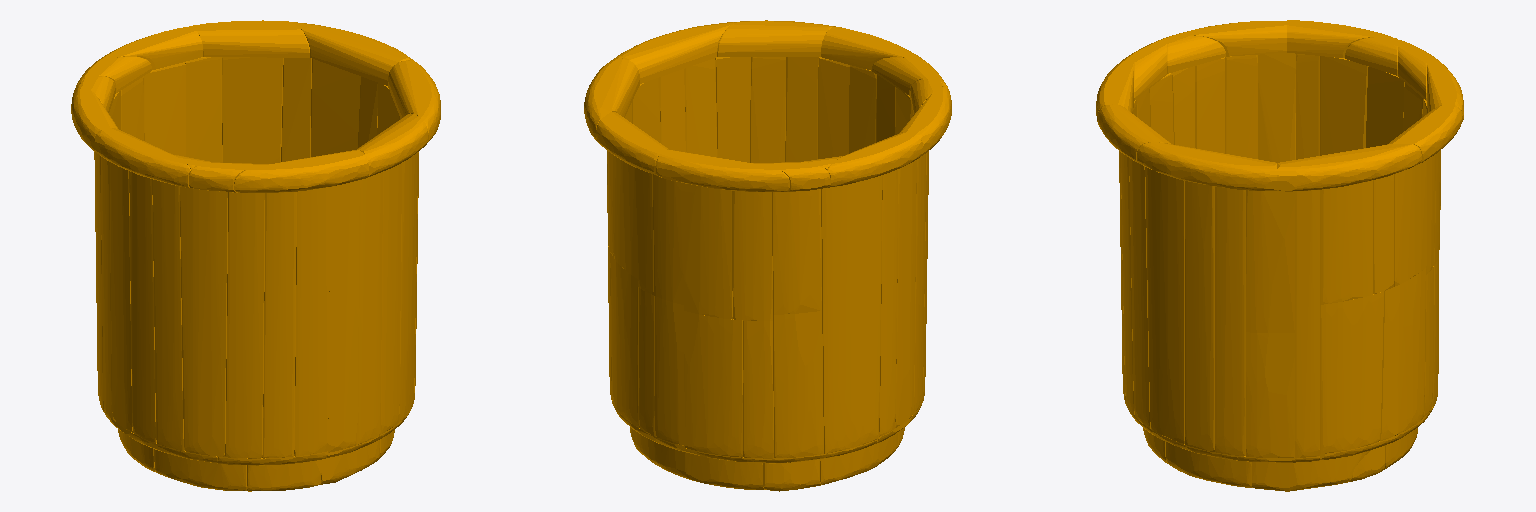
URDF robot description (065-c_cups):
<?xml version="1.0" encoding="UTF-8"?>
<robot name="065-c_cups">
	<link name="base">
		<collision>
			<geometry>
				<mesh filename="..\vhacd\065-c_cups_vhacd.obj" scale="1.0 1.0 1.0"/>
			</geometry>
			<origin xyz="0 0 0"/>
			<contact_coefficients mu="0.24" />
		</collision>
		<visual>
			<geometry>
				<mesh filename="..\vhacd\065-c_cups_vhacd.obj" scale="1.0 1.0 1.0"/>
			</geometry>
			<origin xyz="0 0 0"/>
		</visual>
		<inertial>
			<mass value="0"/>
			<inertia ixx="0.0" ixy="-0.0" ixz="0.0" iyy="0.0" iyz="0.0" izz="0.0" />
			<origin xyz="-0.014474974727387646 -0.06461685581612296 0.03116215631428454"/>
		</inertial>
	</link>
</robot>

--- Facts derived from the render (not from the file) ---
3 views of the same robot in one strip: view 1: azimuth 30°, elevation 25°; view 2: azimuth 150°, elevation 25°; view 3: azimuth 270°, elevation 25° (orthographic).
Robot: 065-c_cups — 1 links, 0 joints (none); root link base; default pose: all joints at 0.
Links seen in each view (by area): view 1: base; view 2: base; view 3: base.
Link boxes in pixels (box(x1,y1,x2,y2)): base: box(71, 20, 440, 491); base: box(584, 20, 951, 491); base: box(1096, 20, 1463, 491).
Bounding box of the posed robot: 0.0651 × 0.0653 × 0.0667 m (x, y, z).
1 mesh visuals loaded from 1 distinct referenced files (1 OBJ).